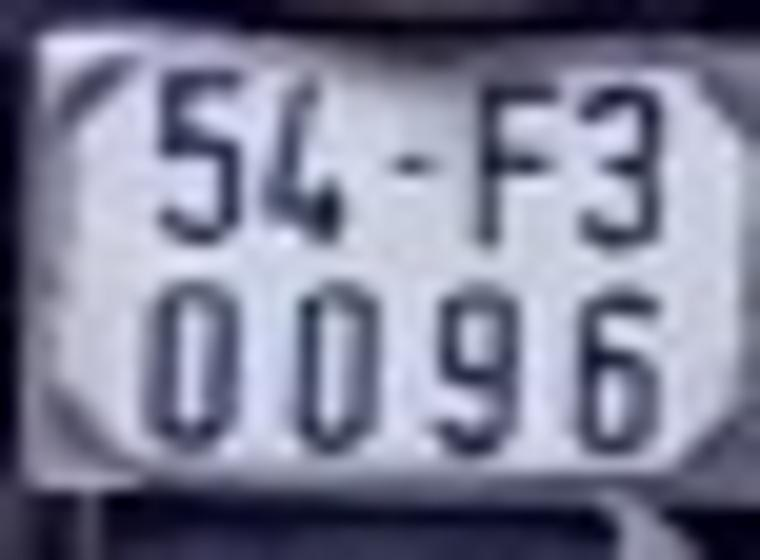-: (386, 145, 437, 193)
0: (291, 275, 390, 466), (148, 271, 247, 454)
3: (569, 82, 666, 256)
4: (251, 62, 351, 253)
5: (157, 62, 252, 248)
6: (573, 287, 671, 463)
9: (427, 275, 534, 463)
F: (463, 71, 566, 252)
